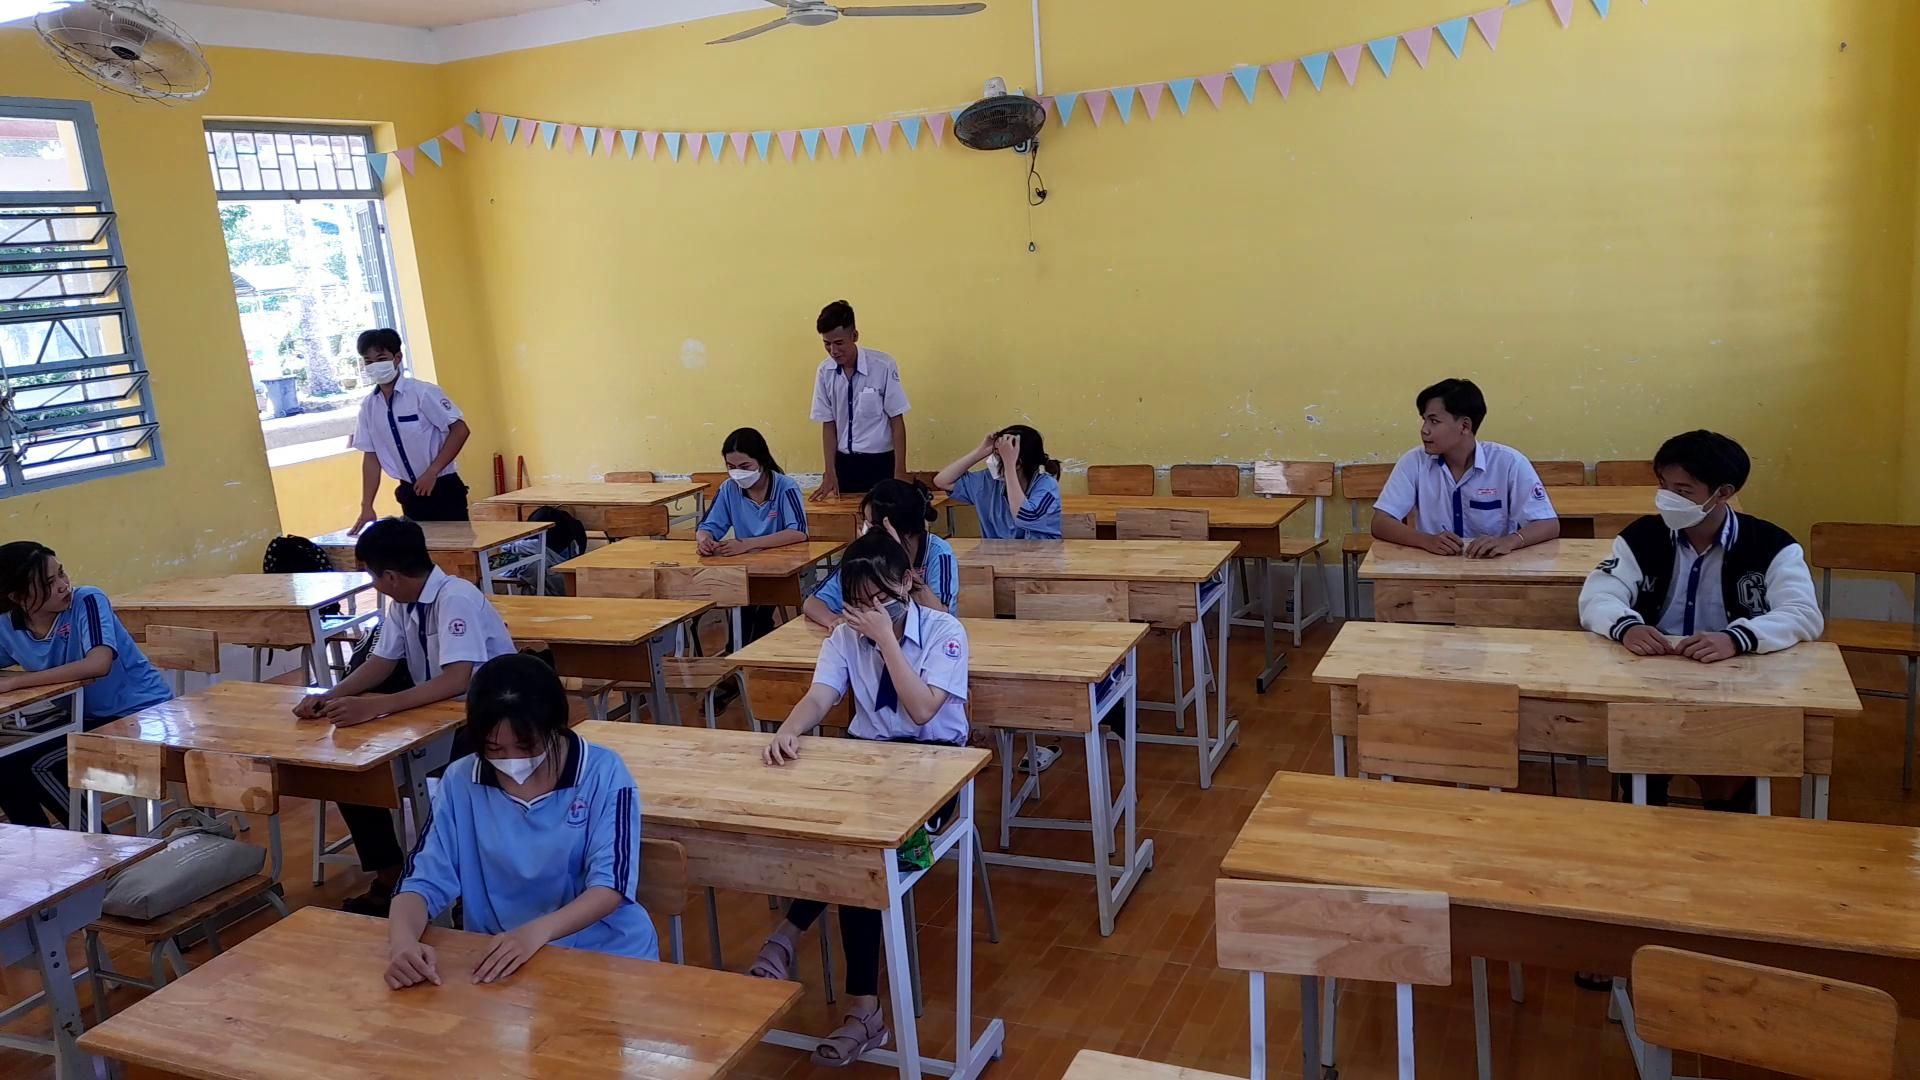Bend Over The Desk: (454, 644, 585, 800)
Look Around: (1640, 419, 1753, 541), (0, 531, 80, 628), (353, 512, 434, 608), (1411, 375, 1491, 469)
Normal: (680, 413, 811, 570)
Stand Up: (332, 314, 469, 522), (785, 293, 920, 488)
Wave: (851, 603, 967, 727), (985, 429, 1047, 522), (924, 427, 986, 520)
